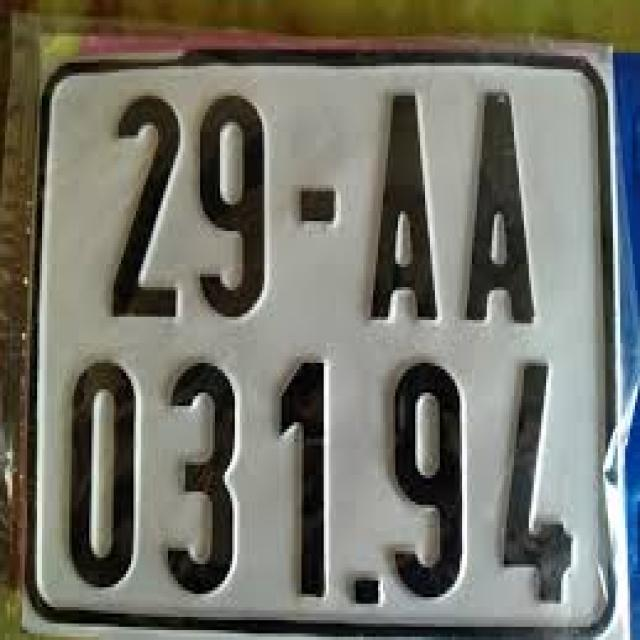a: (34, 29, 611, 626)
bien so: (22, 36, 640, 637)
